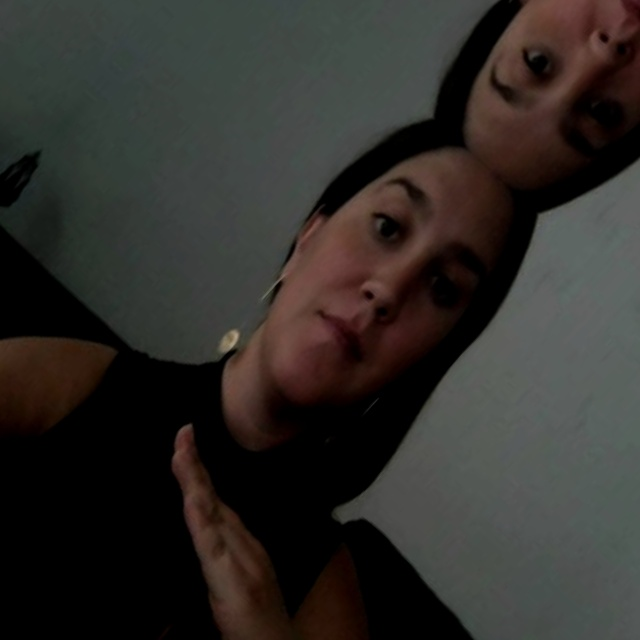Paper: (91, 427, 348, 640)
